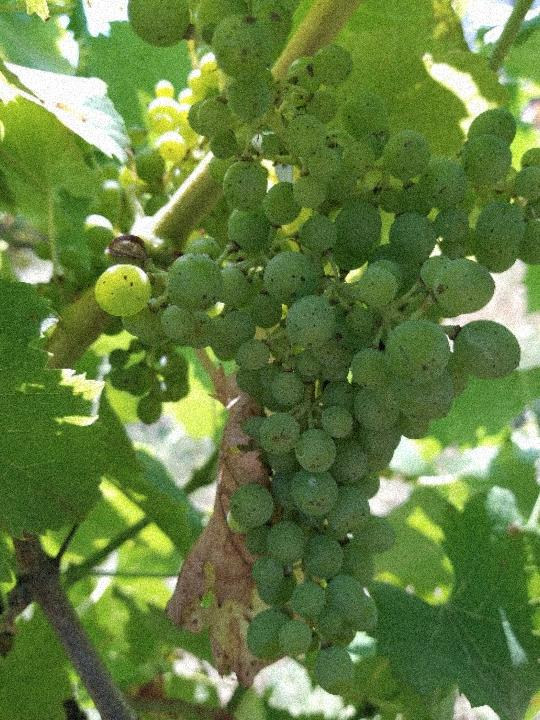grape: (92, 0, 540, 697)
